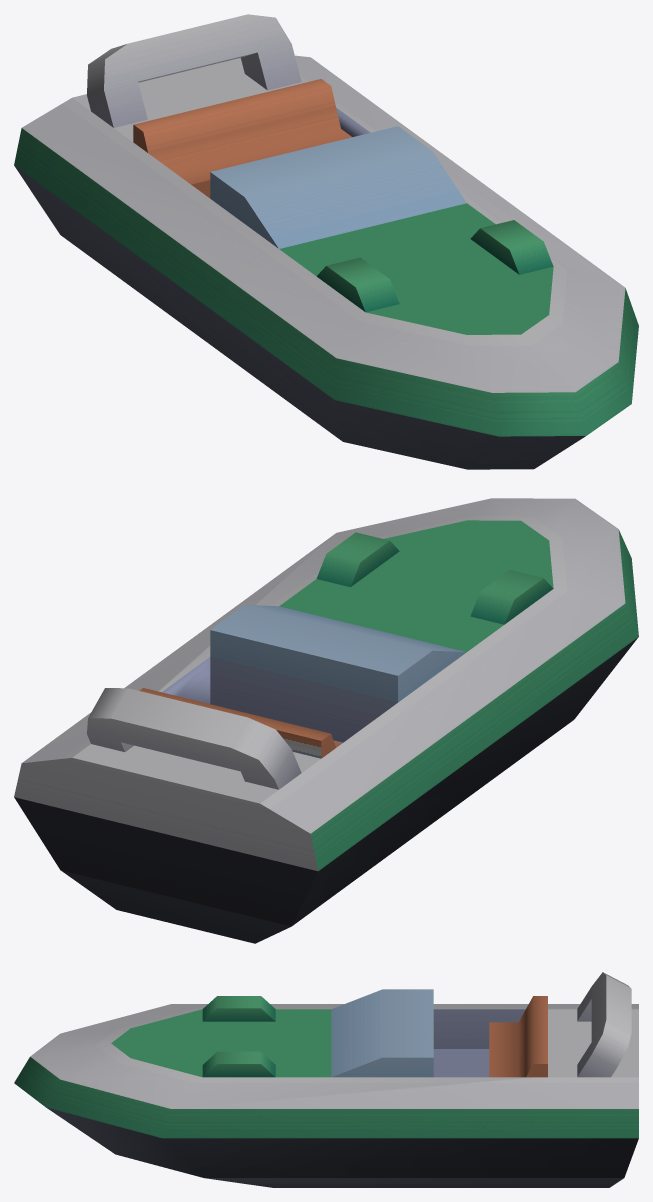
Rendered from boat_speed_j.glb.
3 renders of one model, top to bottom at view 1: azimuth 30°, elevation 25°; view 2: azimuth 150°, elevation 25°; view 3: azimuth 270°, elevation 25°, orthographic. The views are drawn at different scales.
Parts seen in each view (by area): view 1: boat-speed-j; view 2: boat-speed-j; view 3: boat-speed-j.
Boxes of the visible parts, x1,y1,x2,y2 form: boat-speed-j: (14, 14, 638, 469); boat-speed-j: (14, 498, 638, 943); boat-speed-j: (14, 972, 638, 1187).
Bounding box in the file's own units: 1.78 × 1.25 × 4.27.
1 material, 1 textured.
